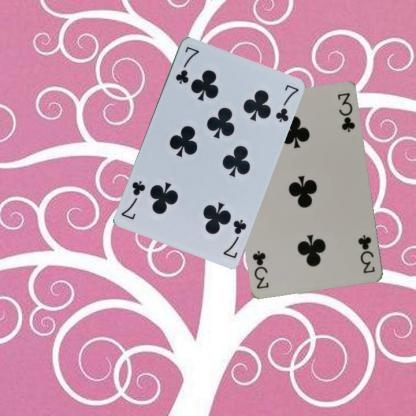3c: (355, 232, 377, 274)
7c: (220, 216, 248, 260), (172, 43, 201, 85)
